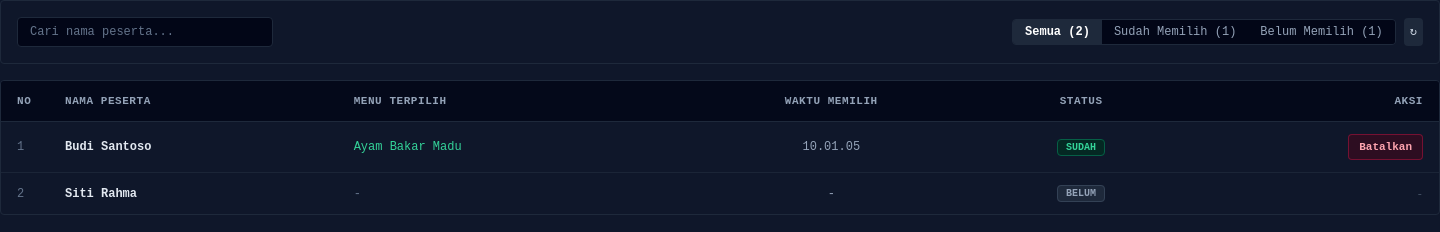
Test: Admin Frontend Components & Flow Tests › ParticipantMonitor › filters participants by search input
Expected: the text "Budi Santoso" is shown, top-left (49, 122), bottom-right (338, 172)
Expected: the text "Siti Rahma" is shown, top-left (49, 172), bottom-right (338, 214)
Type "Budi" into the field with placeholder "Cari nama peserta..." at (145, 32), box top-left (17, 17), bottom-right (273, 47)
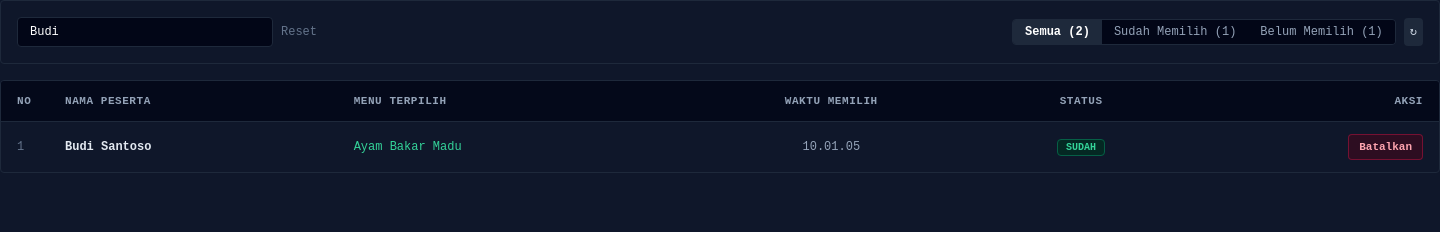
Expected: the text "Budi Santoso" is shown, top-left (49, 122), bottom-right (338, 172)
Now the text "Siti Rahma" is gone
